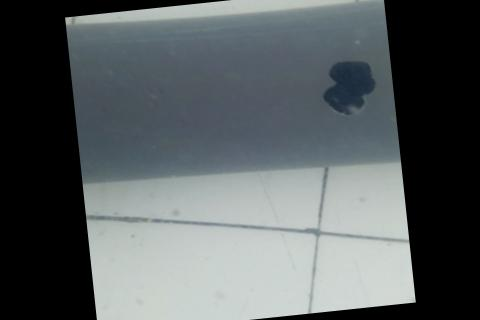kebocoran: (319, 58, 379, 117)
